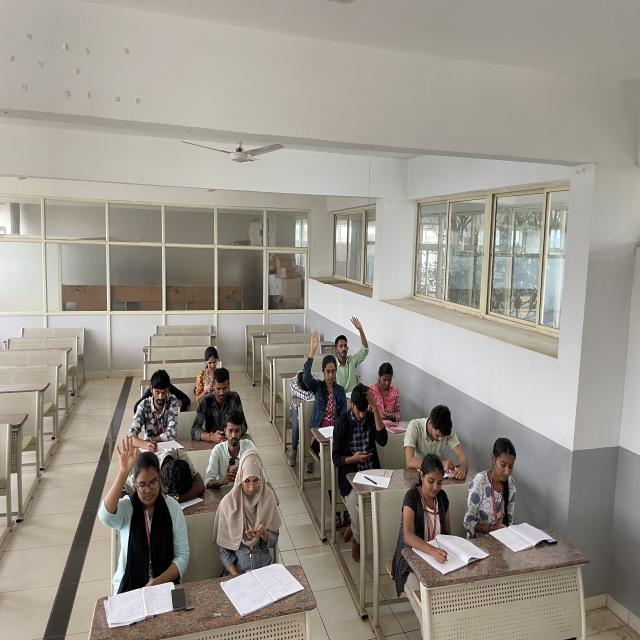Hand Rising: (96, 436, 185, 572), (304, 328, 349, 414), (332, 314, 369, 384)
Reading: (468, 434, 532, 530)
Sleeping: (155, 448, 206, 503)
Using Phone: (210, 449, 280, 556), (191, 369, 249, 444), (333, 387, 386, 469), (202, 421, 254, 492), (188, 348, 228, 400), (368, 365, 401, 420)
Writing: (402, 456, 479, 568), (125, 369, 181, 451)
